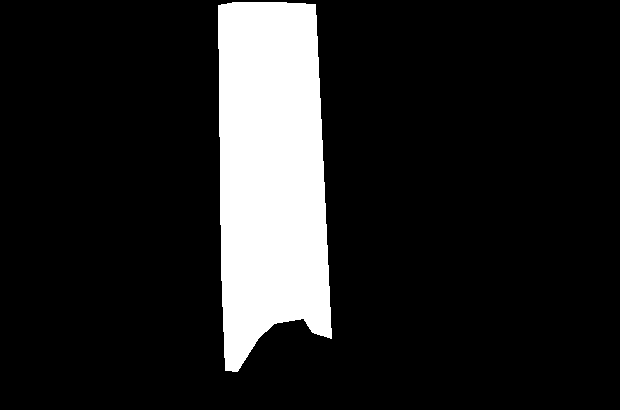type3s: (211, 1, 334, 374)
